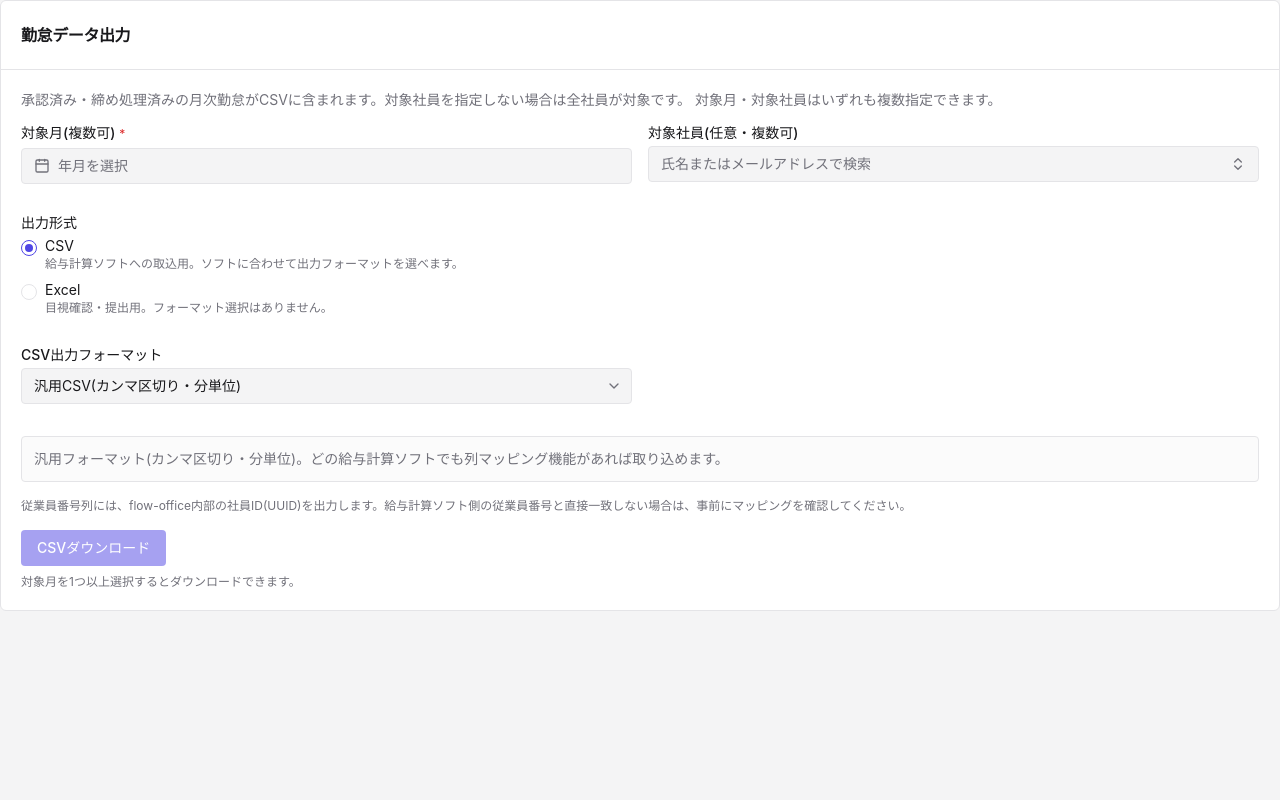
Scenario: AttendanceExportPage › shows an error message when the download fails
Click the button named "対象月(複数可)": (93, 166) left=21, top=148, right=632, bottom=184
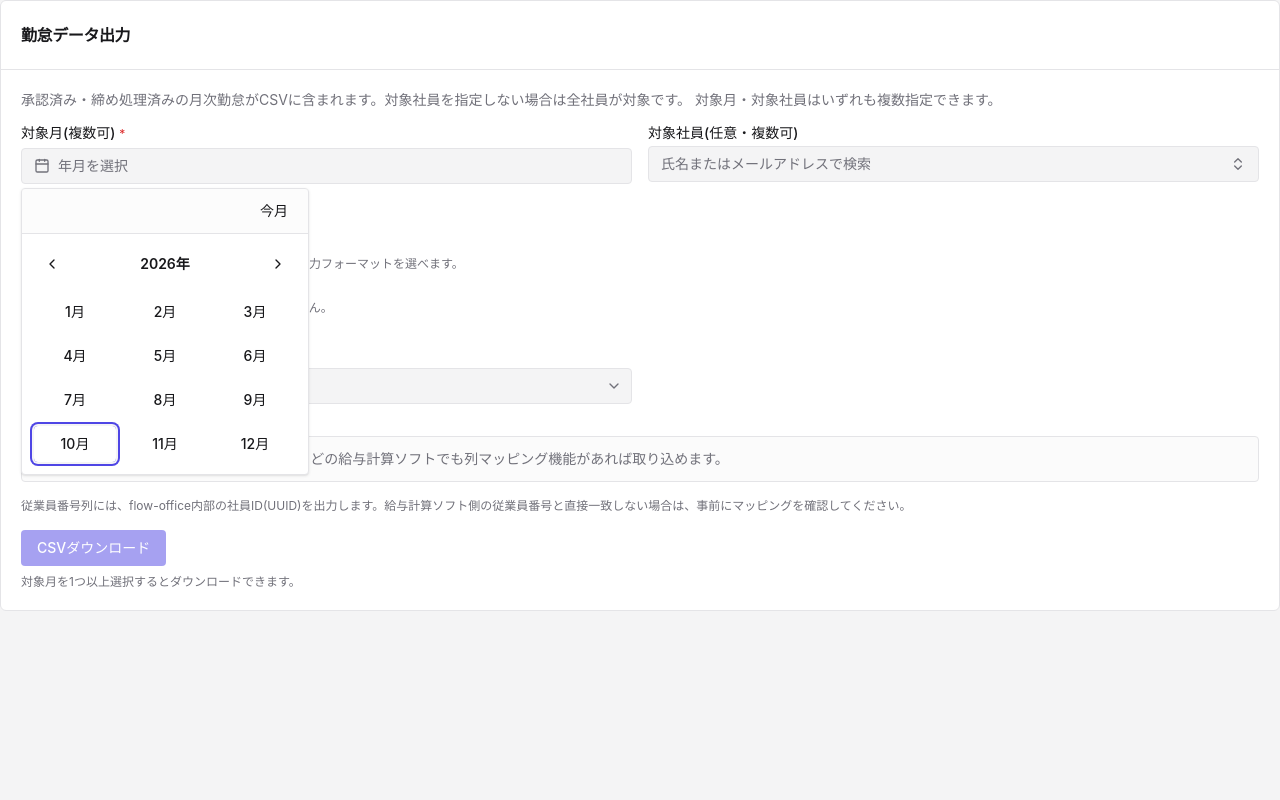
Click the option "6月": (255, 356) left=214, top=338, right=296, bottom=374
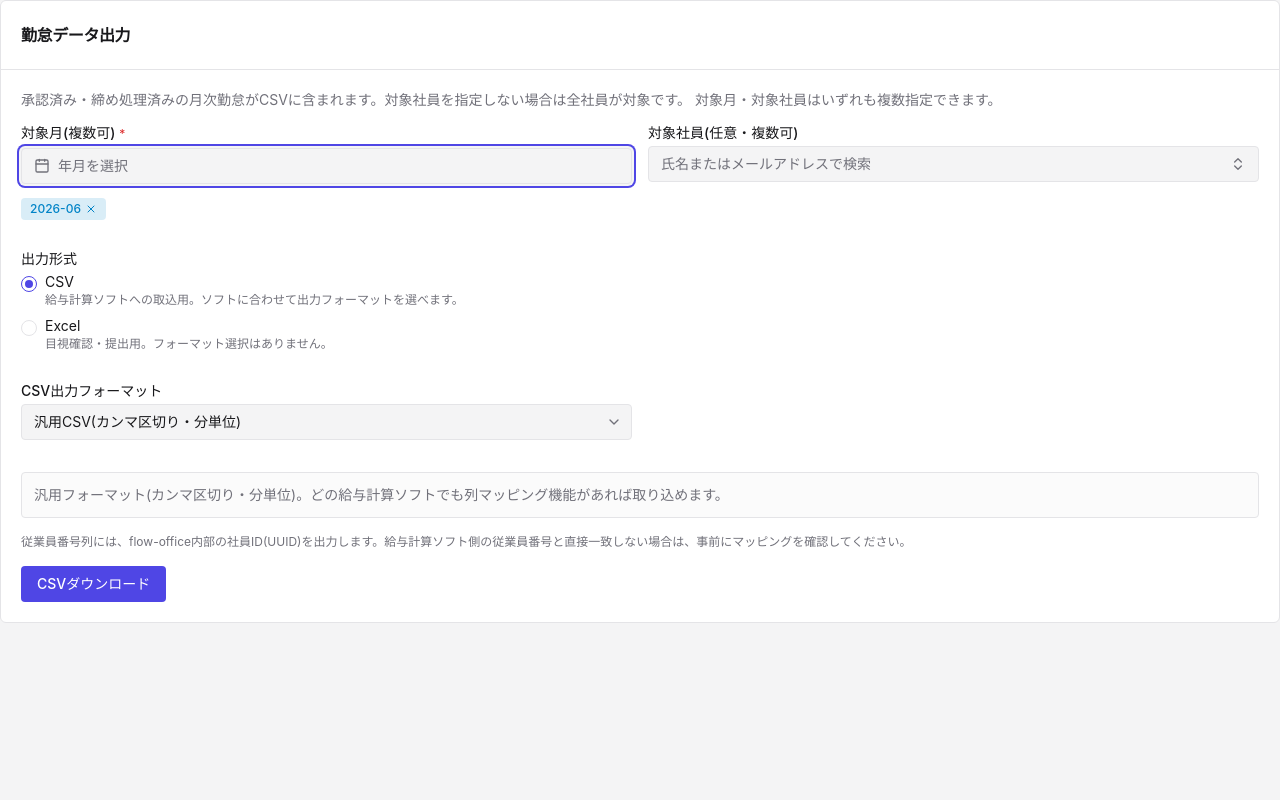
Click the button "CSVダウンロード": (94, 584) left=21, top=566, right=166, bottom=602
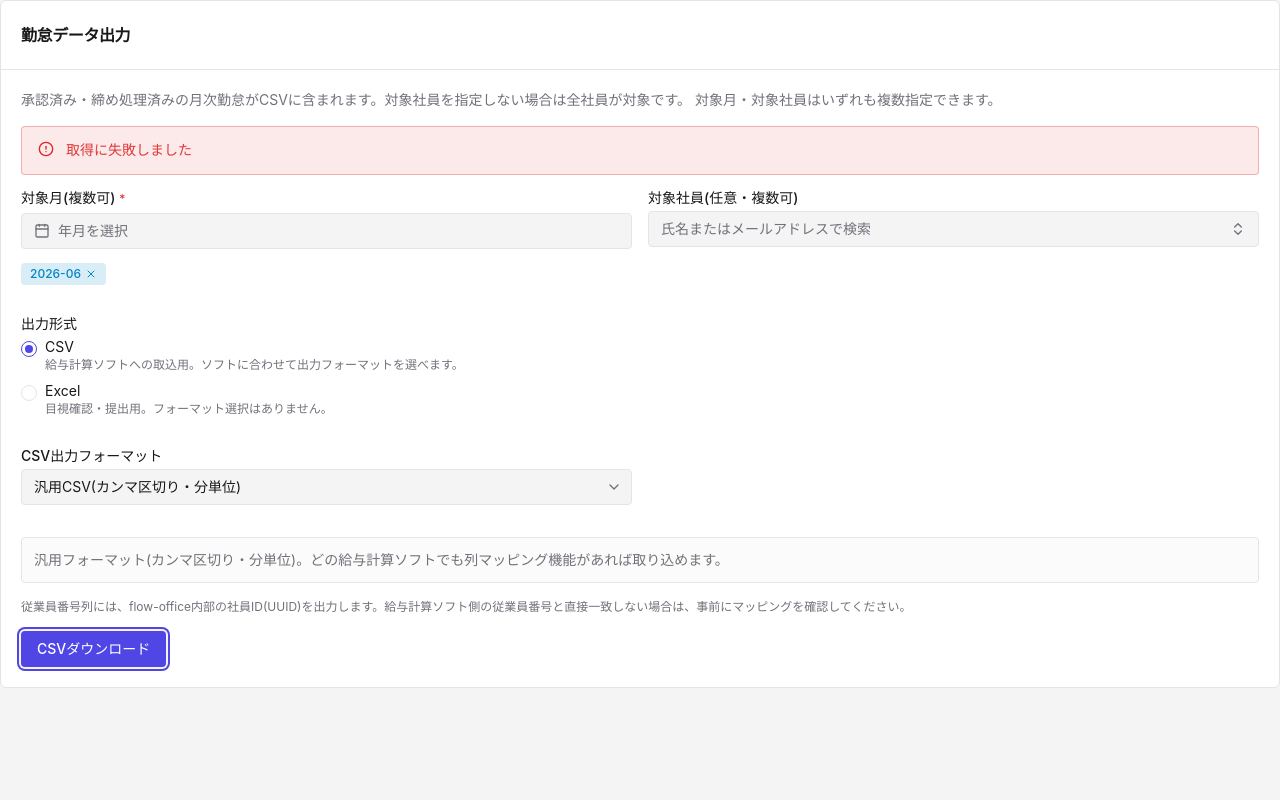
Check: the message reads "取得に失敗しました", box left=66, top=141, right=192, bottom=158
